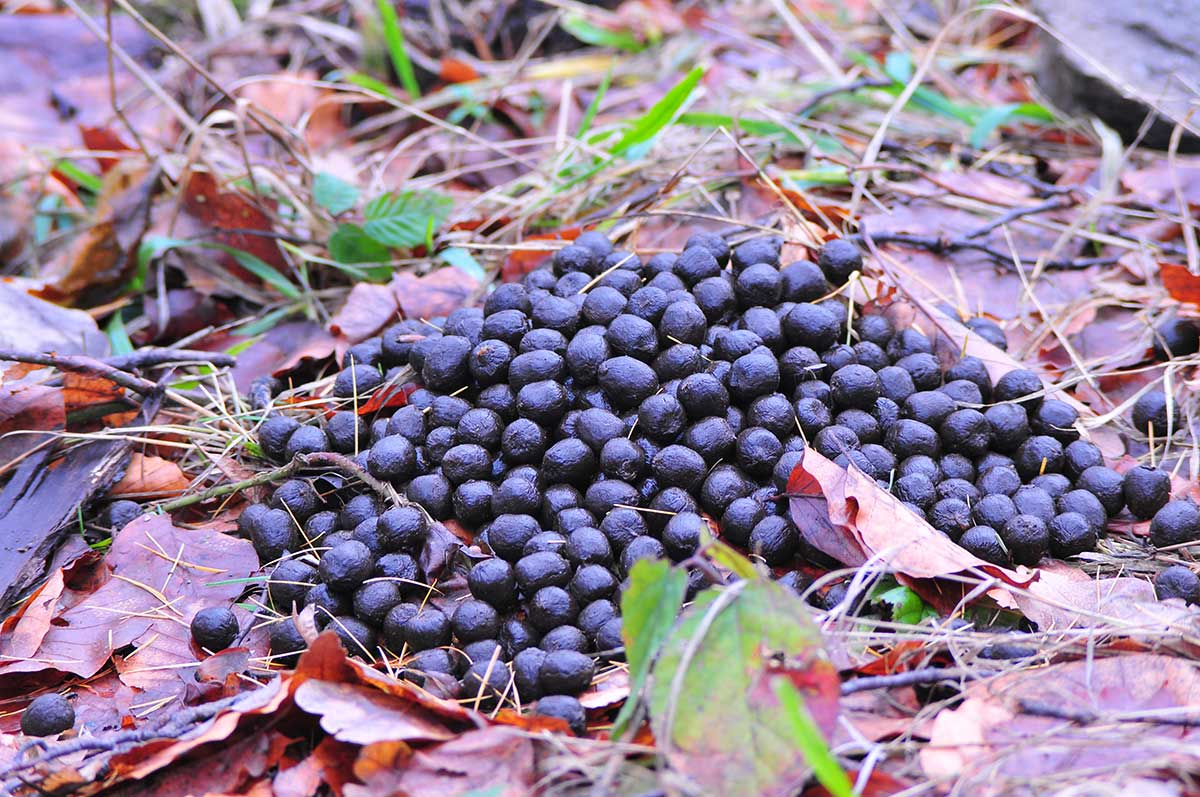Elk: (302, 260, 977, 695)
